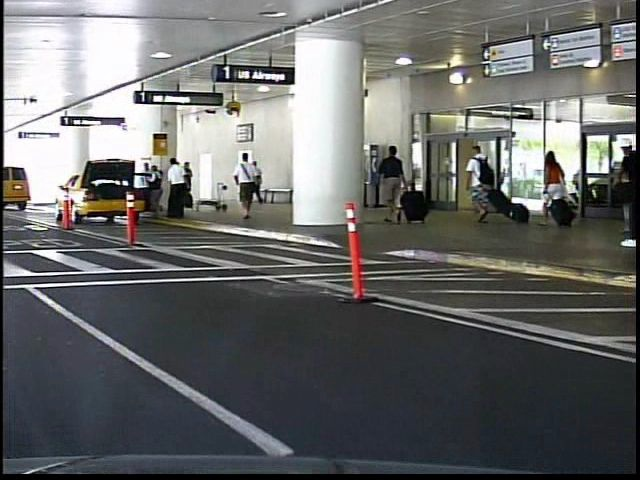person: (605, 137, 640, 249), (462, 138, 500, 223), (534, 143, 569, 229), (374, 142, 406, 227), (228, 147, 259, 221), (234, 162, 254, 209)
